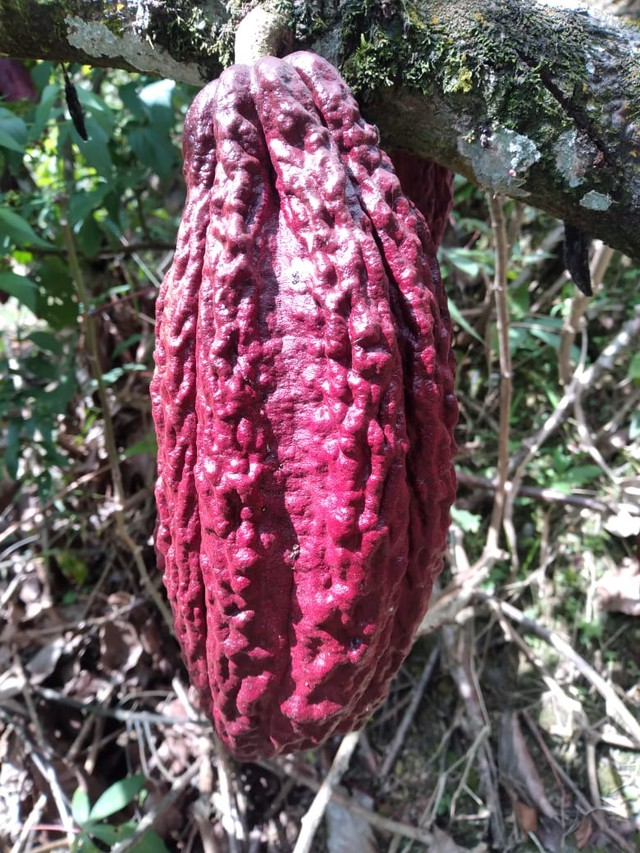Health: (128, 43, 483, 773)
